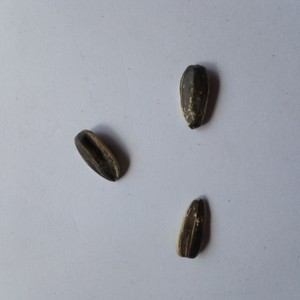girasol: (72, 127, 126, 185), (177, 62, 219, 132), (174, 195, 212, 263)
